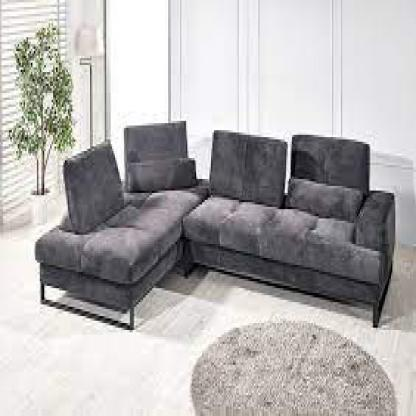sofa: (44, 128, 400, 332)
